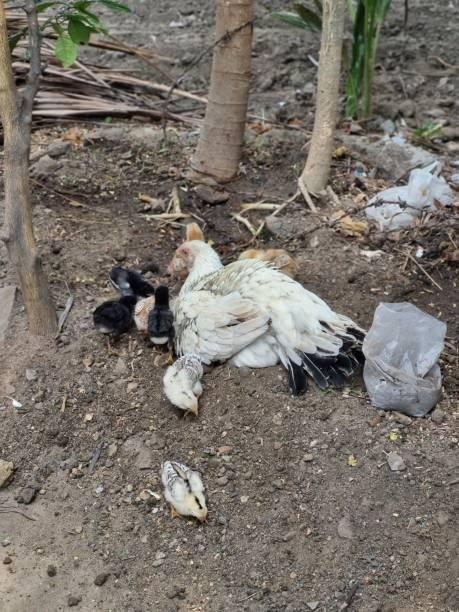AbNormal: (98, 235, 370, 417)
